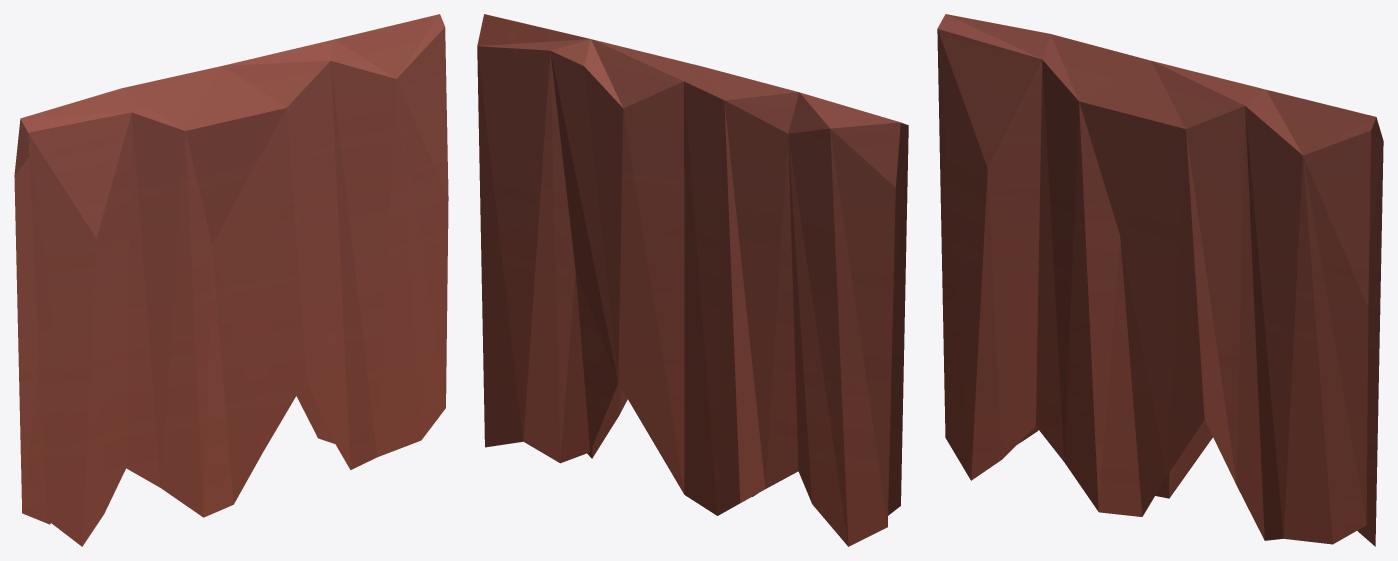
Rendered from Cloth_2A.fbx.
The picture shows the model from 3 angles, left to right: view 1: azimuth 30°, elevation 25°; view 2: azimuth 150°, elevation 25°; view 3: azimuth 330°, elevation 25°; orthographic projection. The views are drawn at different scales.
Visible parts, largest first — view 1: polySurface10646; view 2: polySurface10646; view 3: polySurface10646.
Boxes of the visible parts, box(x1,y1,x2,y2) form: polySurface10646: box(14, 14, 448, 546); polySurface10646: box(477, 14, 908, 546); polySurface10646: box(937, 14, 1383, 546).
Size of the model in its own units: 236 by 233 by 31.37.
